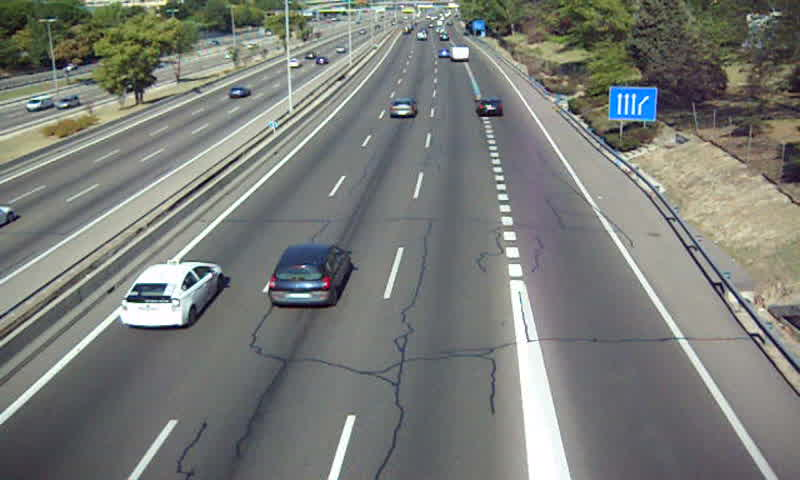car: (119, 262, 223, 328), (270, 245, 350, 307), (388, 99, 416, 120), (474, 98, 504, 116)
van: (449, 47, 470, 61)
